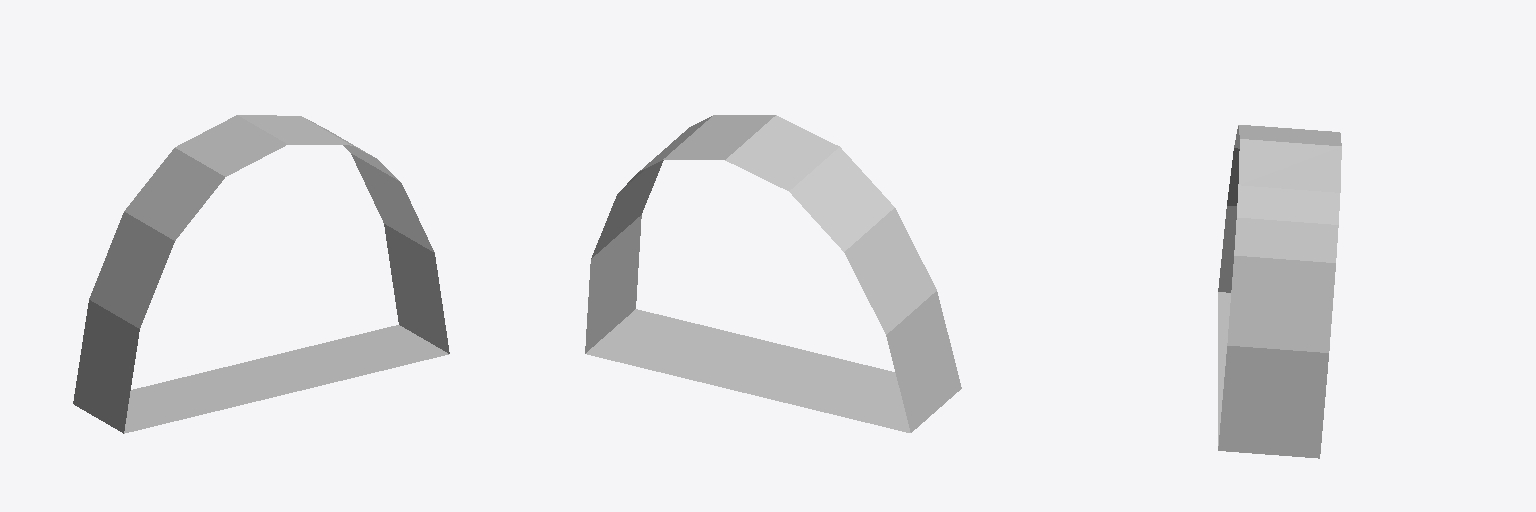
The model's file is original-260.obj.
3 renders of one model, left to right at view 1: azimuth 30°, elevation 25°; view 2: azimuth 150°, elevation 25°; view 3: azimuth 270°, elevation 25°, orthographic.
Visible parts, largest first — view 1: #ID1497; view 2: #ID1497; view 3: #ID1497.
Part boxes in pixels (x1,y1,x2,y2): #ID1497: (73, 115, 449, 433); #ID1497: (585, 115, 961, 432); #ID1497: (1218, 125, 1341, 458).
Bounding box in the file's own units: 0.003 × 0.0021 × 0.001.